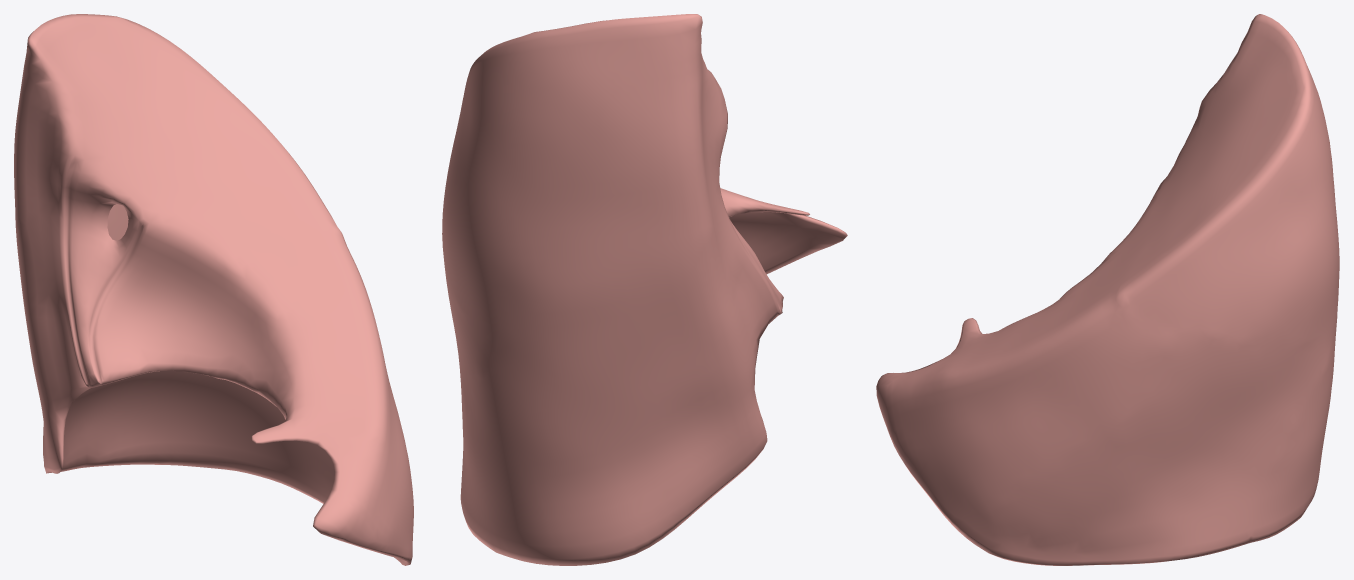
Rendered from lung-inferior-left.glb.
3 renders of one model, left to right at view 1: azimuth 30°, elevation 25°; view 2: azimuth 150°, elevation 25°; view 3: azimuth 270°, elevation 25°, orthographic. The views are drawn at different scales.
Parts seen in each view (by area): view 1: Inferior lobe of left lung; view 2: Inferior lobe of left lung; view 3: Inferior lobe of left lung.
Boxes of the visible parts, x1,y1,x2,y2 form: Inferior lobe of left lung: [14, 14, 413, 565]; Inferior lobe of left lung: [442, 14, 847, 565]; Inferior lobe of left lung: [876, 14, 1339, 565].
Size of the model in its own units: 0.1115 by 0.1935 by 0.1819.
